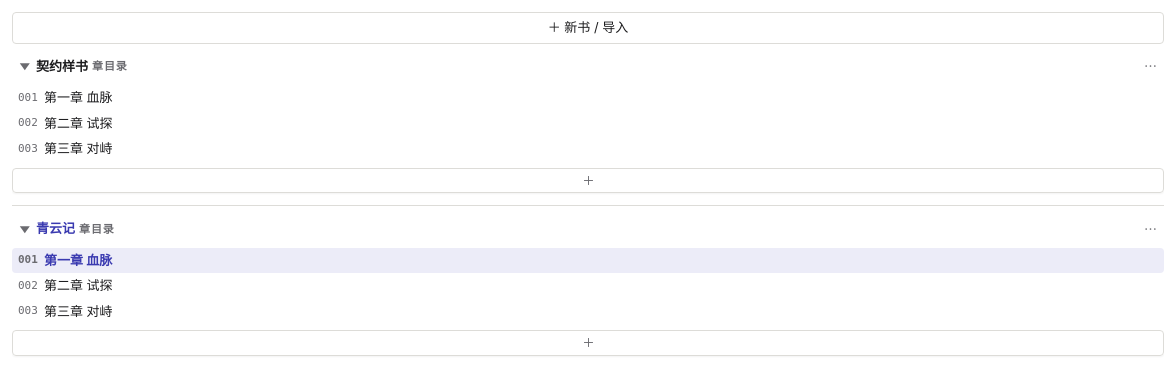
侧栏书架 › 整行都能点开章目录，不用去瞄那个小箭头
The width and height of the screenshot is (1176, 373).
Expected: the 2nd text "第一章 血脉" is shown, [44,252,112,268]
Step 1. Click the button "青云记 章目录" → (56, 228), box [12,216,1137,242]
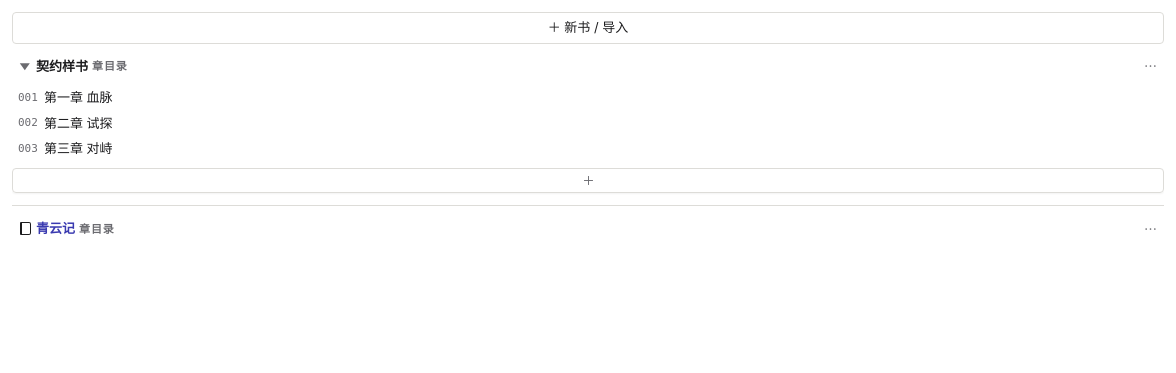
Expected: the button "青云记 章目录" is collapsed
Step 2. Click the button "青云记 章目录" → (56, 228), box [12,216,1137,242]
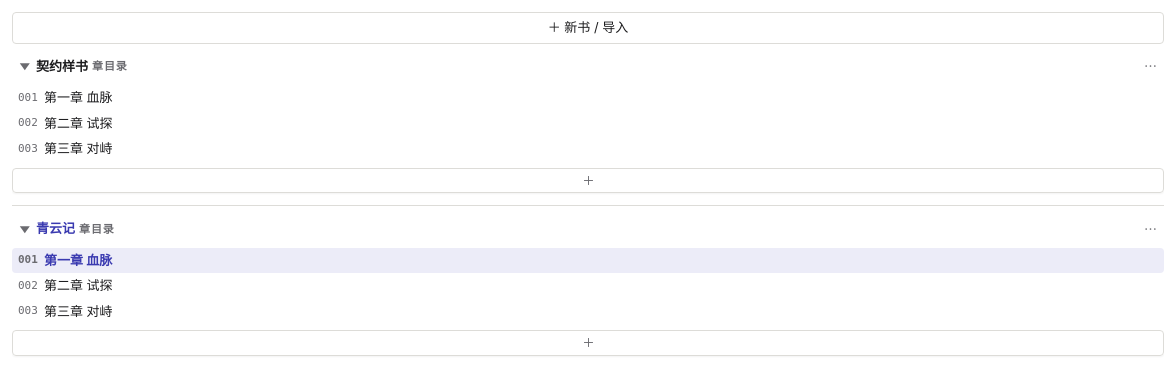
Expected: the 2nd text "第一章 血脉" is shown, [44,252,112,268]
